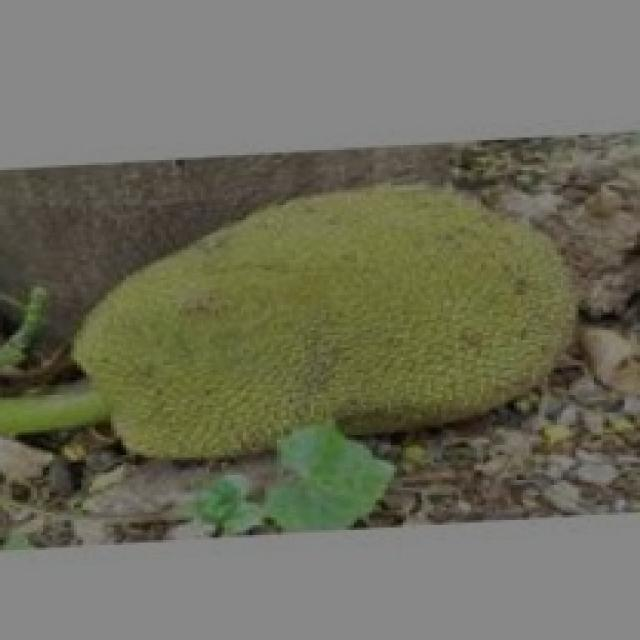Fruit: (40, 192, 418, 510), (246, 158, 609, 468)
